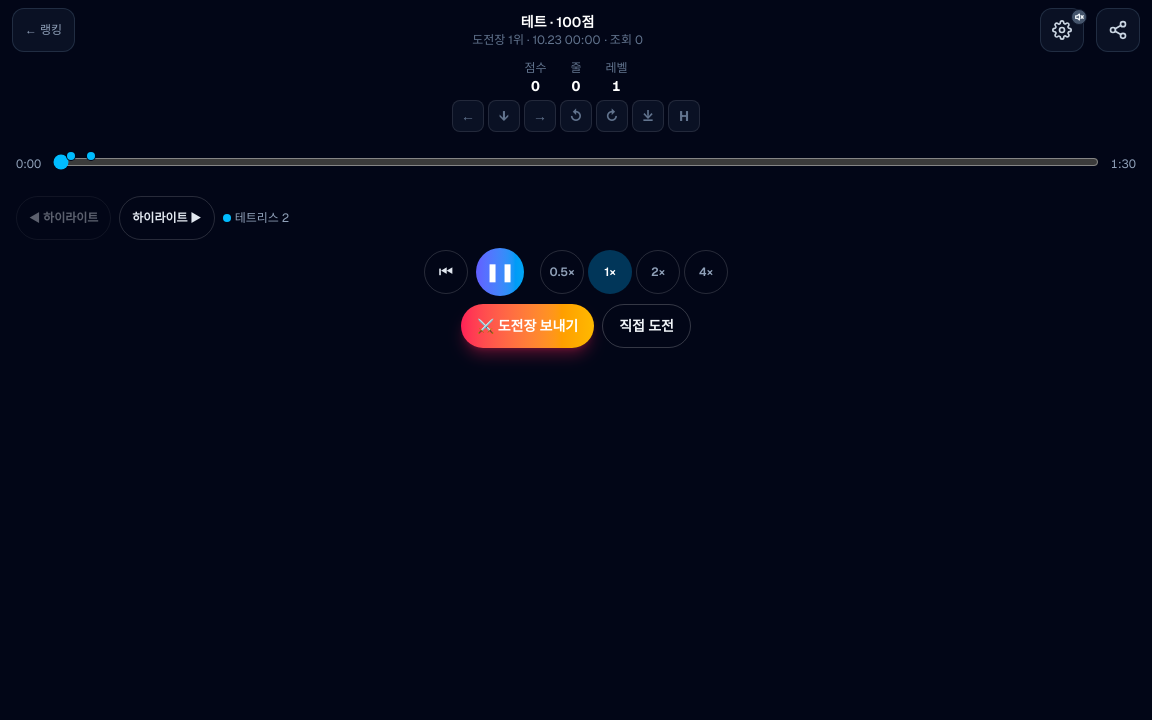
Test: 싱글 리플레이 재생기 (games-polish P4) › 도전장 보드 기록이면 도전장은 원본(root) 기준 — 링크·문구가 실제 도전 상대와 같게 (games-growth B2)
This screenshot has width=1152, height=720.
Expected: the slider with test id "tetris-replay-seek" is shown, [53,140,1099,184]
Note: 공유는 원본이 온 뒤에 원본 이름·링크로
Click the button with test id "challenge-share" at coordinates (528, 326), box [461,304,594,348]
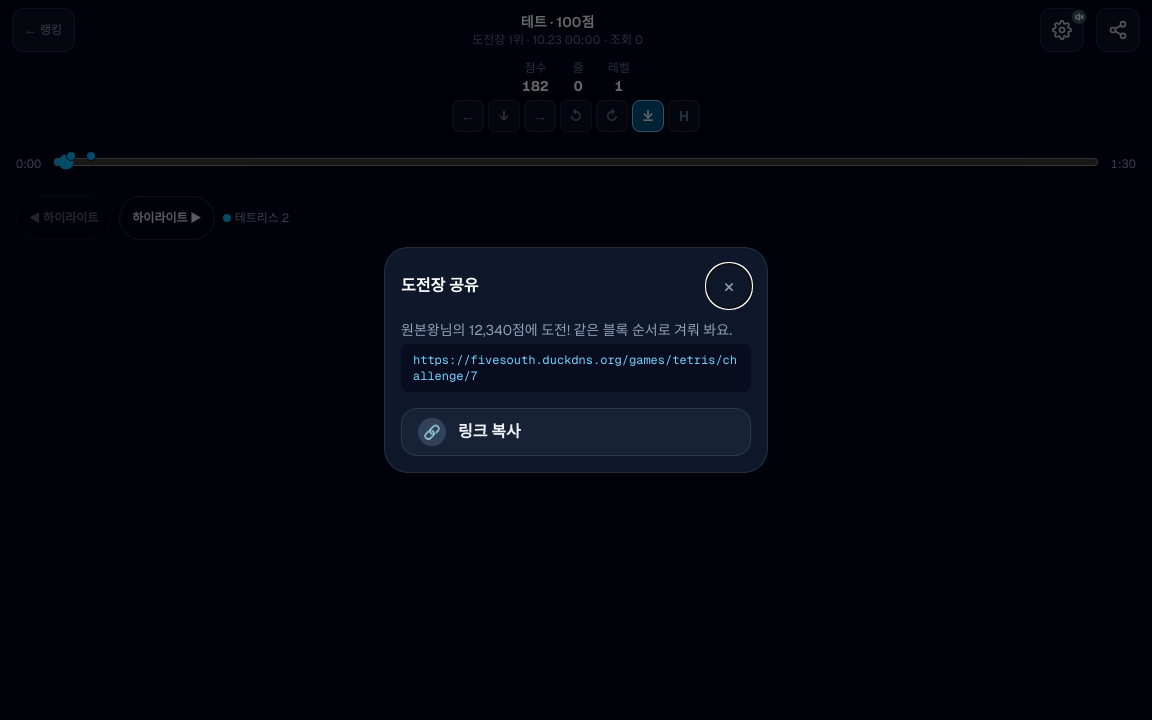
Expected: the heading "도전장 공유" is shown, [401,274,478,298]
Expected: the text "원본왕님의 12,340점에 도전! 같은 블록 순서로 겨뤄 봐요." is shown, [401,320,751,340]
Expected: the text "https://fivesouth.duckdns.org/games/tetris/challenge/7" is shown, [401,344,751,392]
